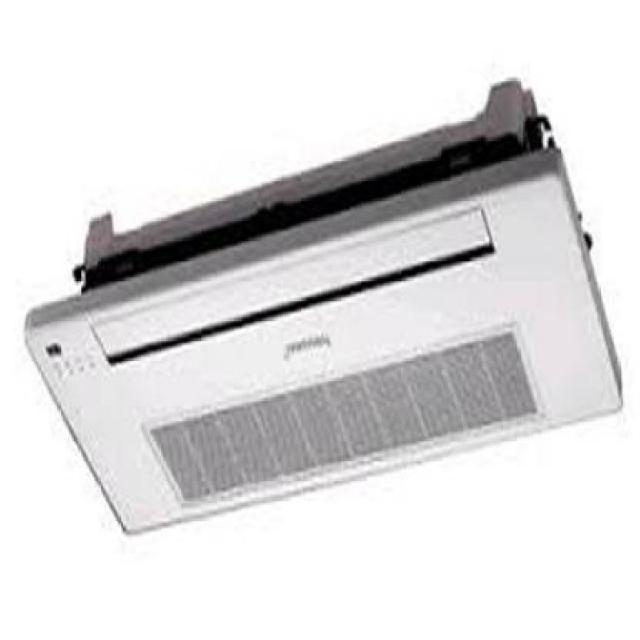ac: (24, 74, 619, 537)
